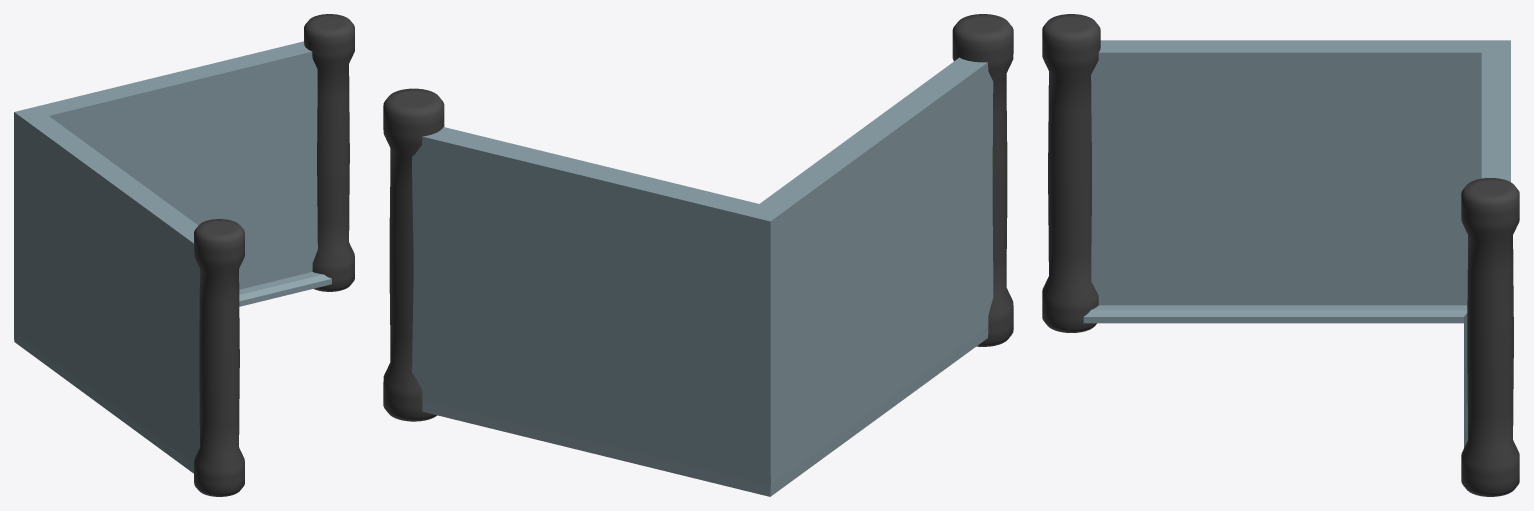
The model's file is medium wall corner 2 pillars.fbx.
3 views of the same model, side by side, from view 1: azimuth 30°, elevation 25°; view 2: azimuth 150°, elevation 25°; view 3: azimuth 270°, elevation 25° (orthographic). The views are drawn at different scales.
Visible parts, largest first — view 1: Corner_wall_medium_2_pillar; view 2: Corner_wall_medium_2_pillar; view 3: Corner_wall_medium_2_pillar.
Boxes of the visible parts, x1,y1,x2,y2 form: Corner_wall_medium_2_pillar: [14, 14, 354, 496]; Corner_wall_medium_2_pillar: [383, 14, 1013, 496]; Corner_wall_medium_2_pillar: [1042, 14, 1519, 496].
Bounding box in the file's own units: 1196 × 881 × 1280.
